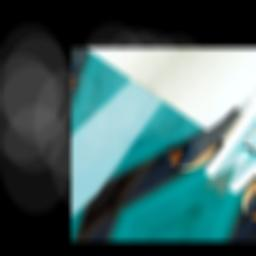Swallow: (157, 78, 256, 182)
